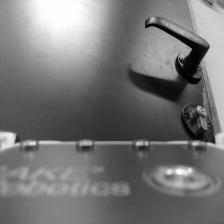Door Handle: (143, 16, 211, 87)
Lock: (180, 101, 214, 143)
